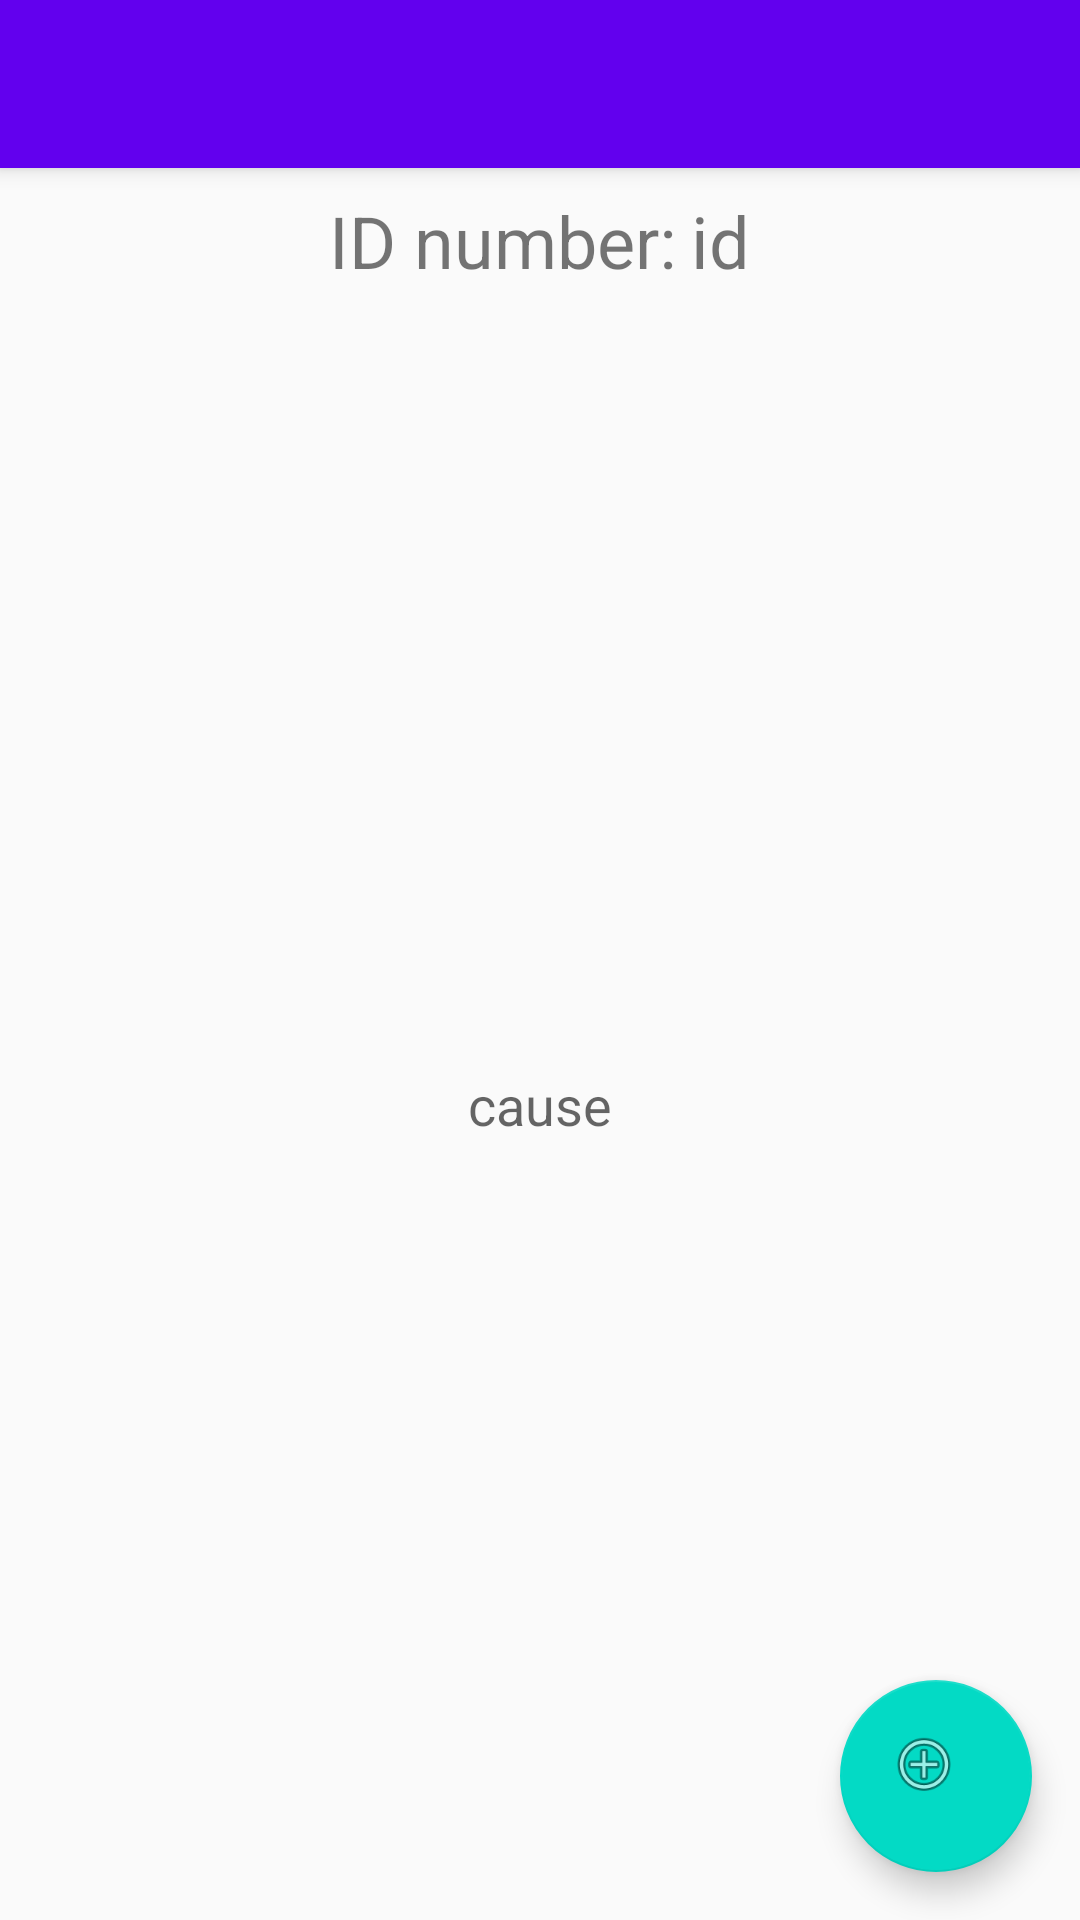

Screen size 1080x1920. Icon name, then its center in pixels as (x,y):
add: (936,1776)
